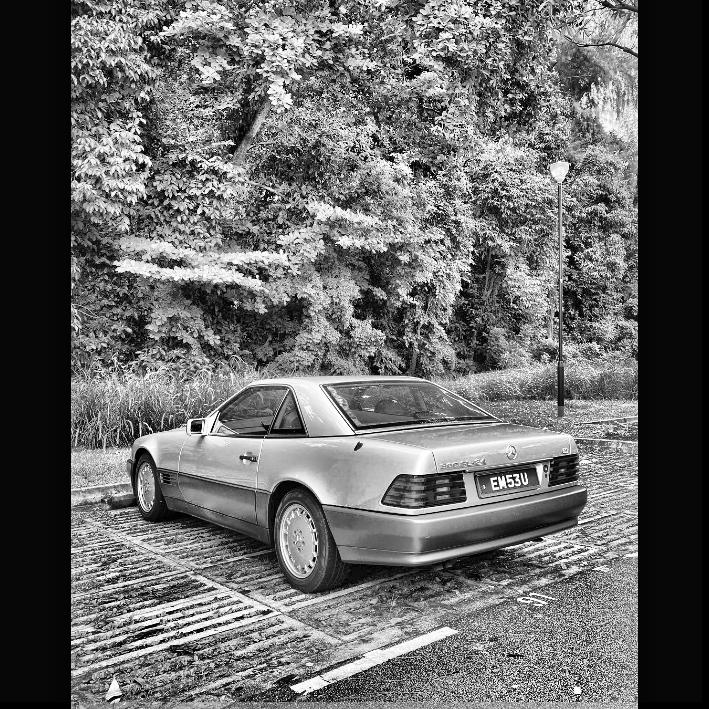License-Plates: (477, 468, 538, 494)
